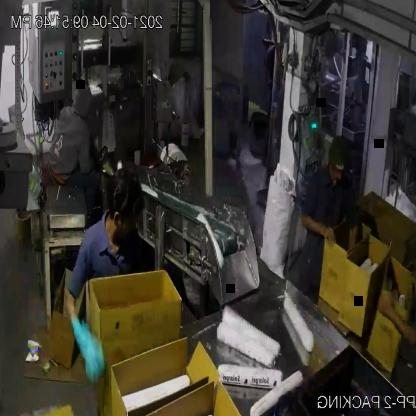glove: (67, 300, 112, 393)
no_glove: (374, 292, 416, 361), (296, 208, 338, 252), (345, 214, 362, 266)
